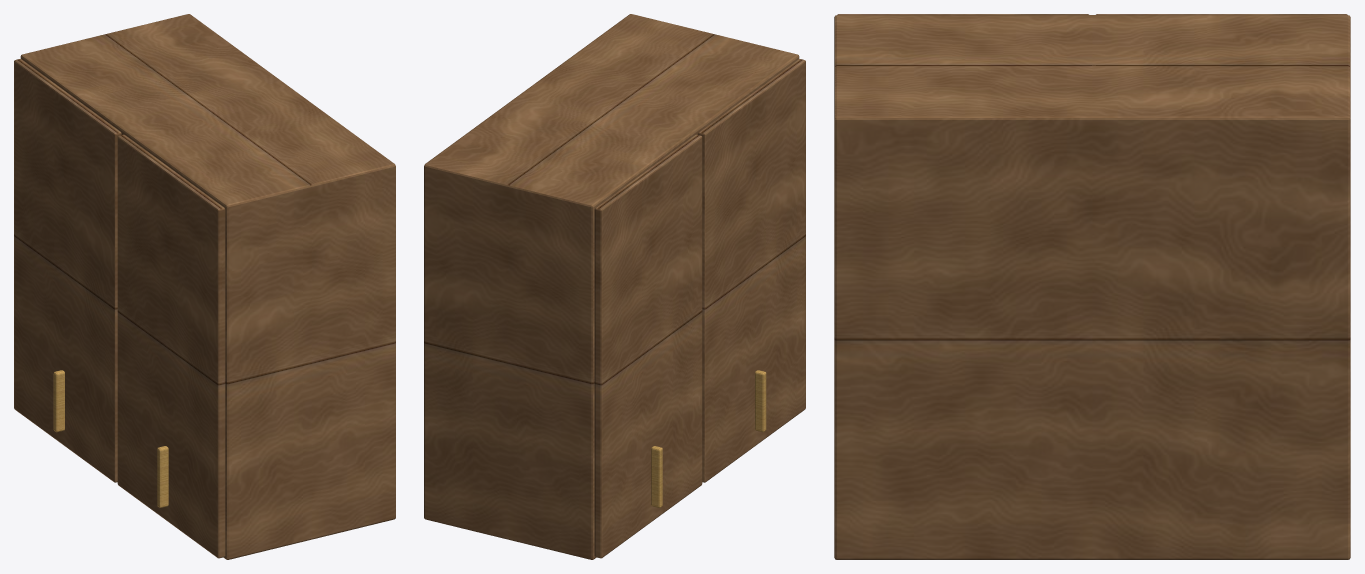
The model's file is kitchen_wall_units_b.glb.
3 renders of one model, left to right at view 1: azimuth 30°, elevation 25°; view 2: azimuth 150°, elevation 25°; view 3: azimuth 270°, elevation 25°, orthographic. The views are drawn at different scales.
Parts seen in each view (by area): view 1: kitchen_wall_units_b; view 2: kitchen_wall_units_b; view 3: kitchen_wall_units_b.
Boxes of the visible parts, x1=… form: kitchen_wall_units_b: x1=14, y1=14, x2=395, y2=559; kitchen_wall_units_b: x1=424, y1=14, x2=805, y2=559; kitchen_wall_units_b: x1=834, y1=14, x2=1350, y2=559.
Size of the model in its own units: 0.396 by 0.72 by 0.76.
2 materials, 2 textured.
